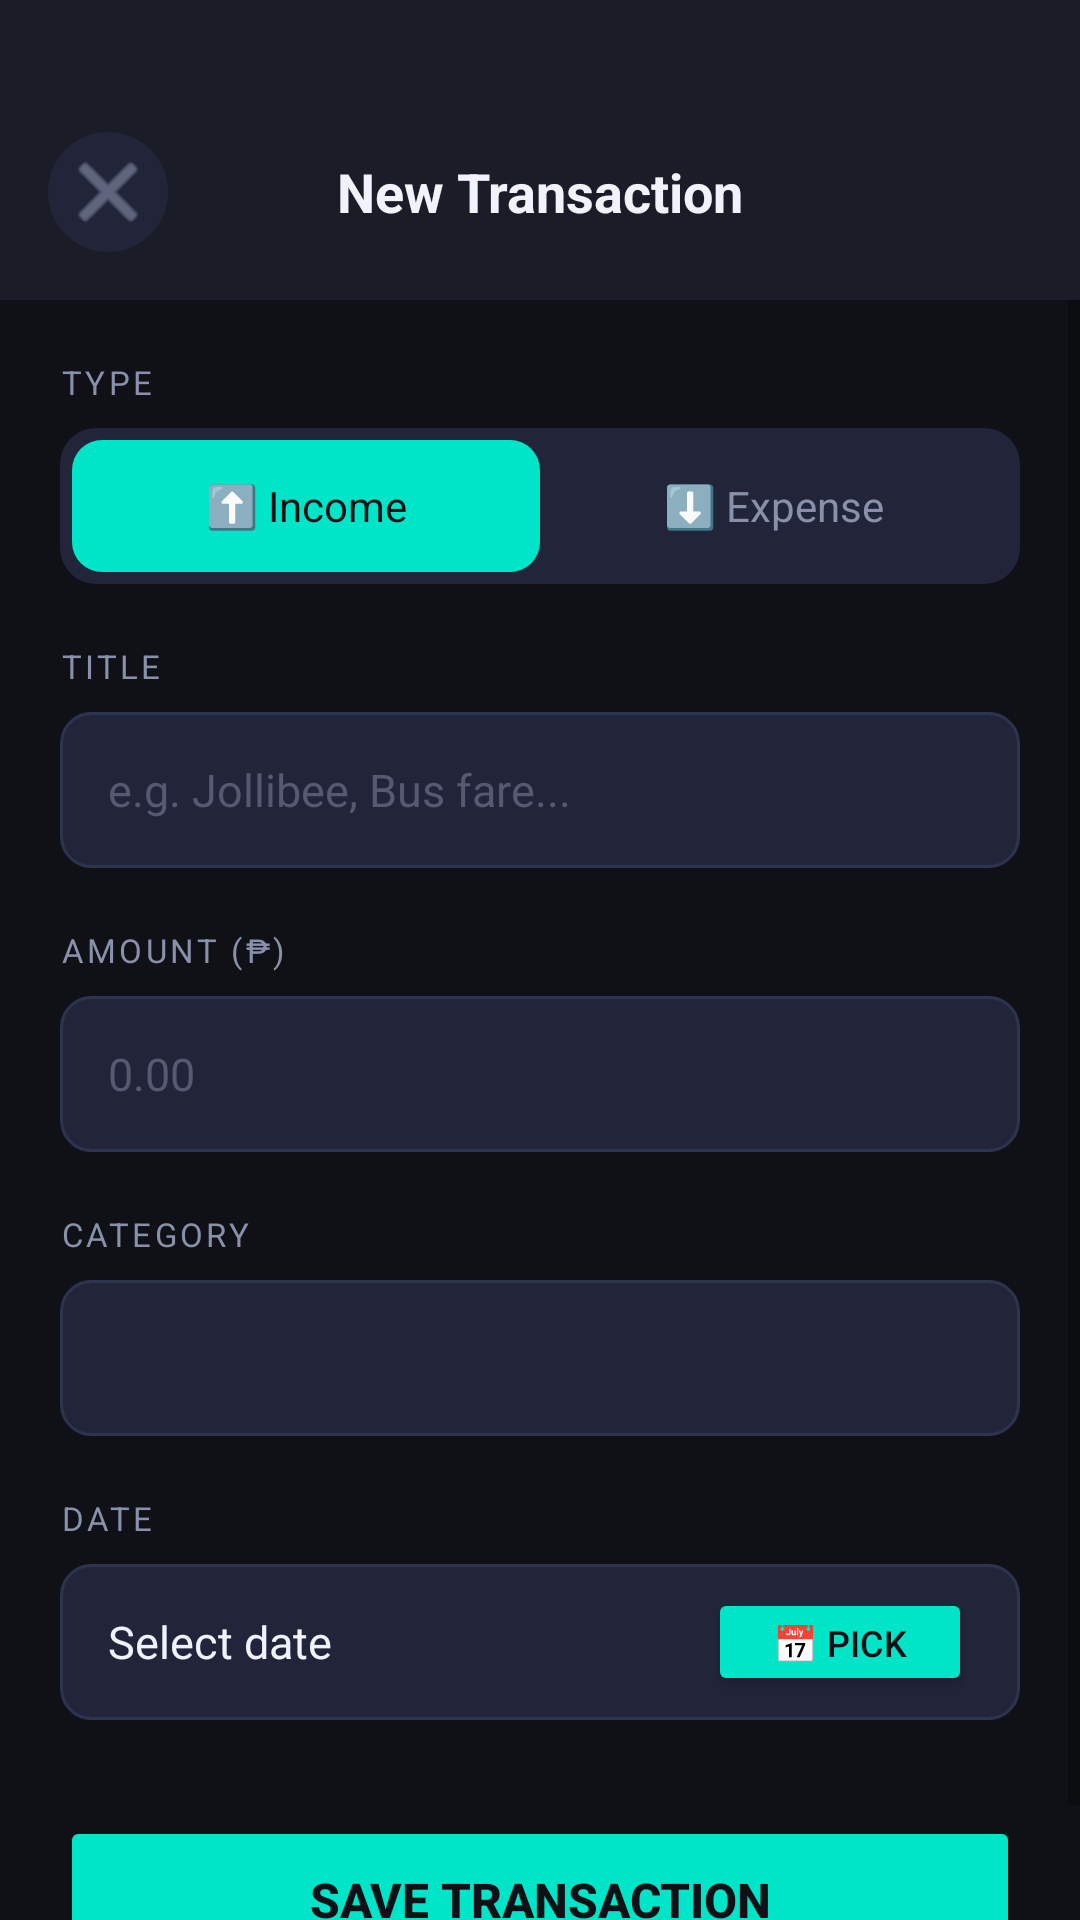

Icon click points for this 1080x1920 phone screenshot, format point (x, y):
Cancel: point (108, 192)
